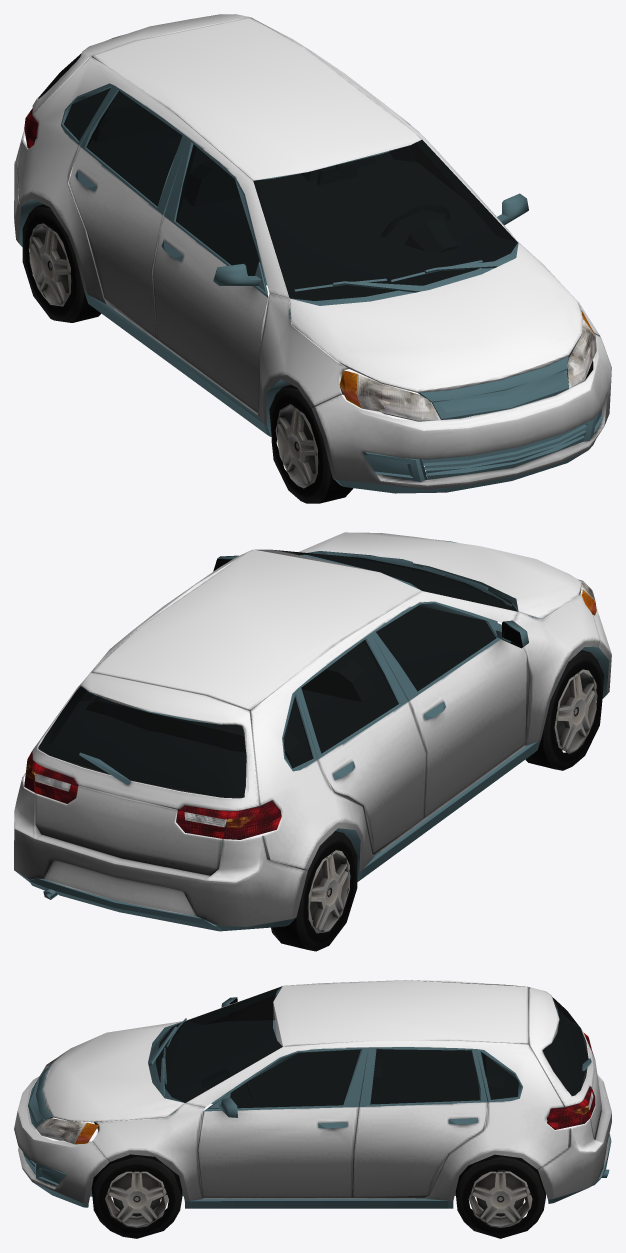
Rendered from t_hatchback.glb.
The picture shows the model from 3 angles, top to bottom: view 1: azimuth 30°, elevation 25°; view 2: azimuth 150°, elevation 25°; view 3: azimuth 270°, elevation 25°; orthographic projection. The views are drawn at different scales.
Parts seen in each view (by area): view 1: Hatchback Body_Body_0, Hatchback Body_Glass_0, Wheel_B_Wheek_0, Hatchback Body_Optics_0; view 2: Hatchback Body_Body_0, Hatchback Body_Glass_0, Wheel_B_Wheek_0, Hatchback Body_Optics_0; view 3: Hatchback Body_Body_0, Hatchback Body_Glass_0, Wheel_B_Wheek_0, Hatchback Body_Optics_0.
Boxes of the visible parts, box(x1,y1,x2,y2) form: Hatchback Body_Body_0: box(14, 14, 611, 493); Hatchback Body_Glass_0: box(38, 35, 517, 300); Wheel_B_Wheek_0: box(22, 204, 593, 503); Hatchback Body_Optics_0: box(24, 108, 596, 421); Hatchback Body_Body_0: box(14, 532, 611, 931); Hatchback Body_Glass_0: box(38, 550, 517, 798); Wheel_B_Wheek_0: box(271, 650, 603, 951); Hatchback Body_Optics_0: box(24, 579, 596, 839); Hatchback Body_Body_0: box(14, 980, 611, 1208); Hatchback Body_Glass_0: box(155, 986, 588, 1108); Wheel_B_Wheek_0: box(91, 1122, 545, 1238); Hatchback Body_Optics_0: box(36, 1032, 595, 1144).
Size of the model in its own units: 1.72 by 1.33 by 3.9.
4 materials, 3 textured.
